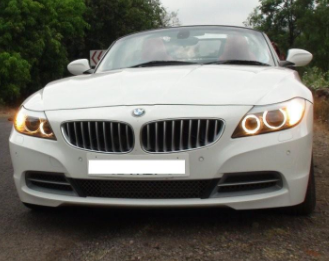car: (8, 25, 320, 222)
